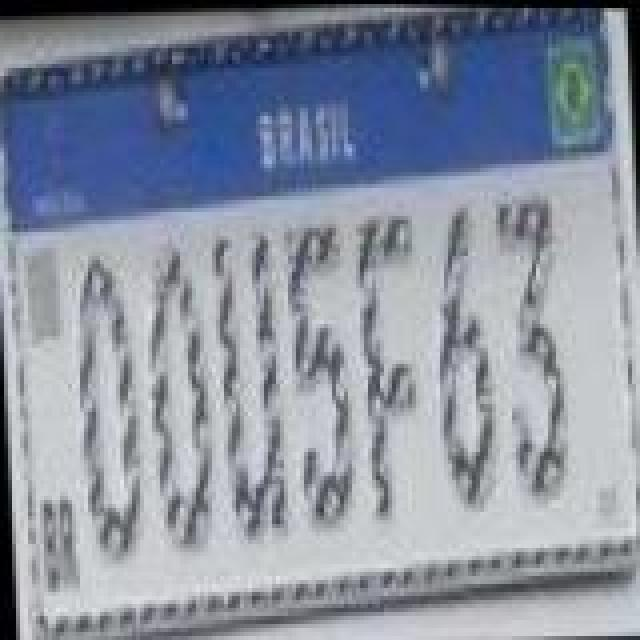3: (488, 180, 568, 496)
5: (278, 212, 358, 524)
6: (422, 194, 502, 514)
F: (348, 198, 424, 518)
O: (136, 230, 220, 550), (66, 252, 146, 560)
U: (204, 222, 288, 538)
